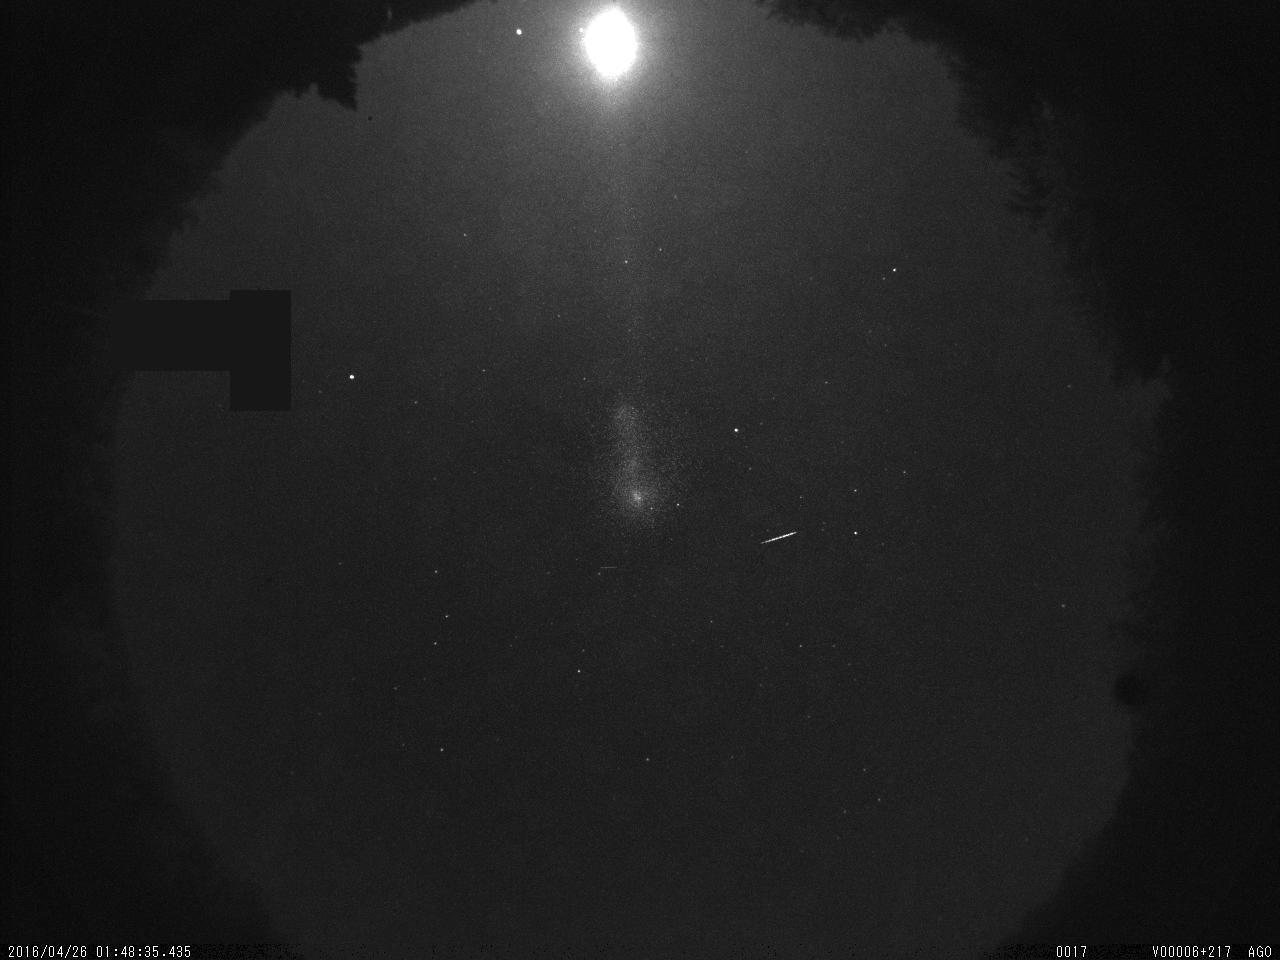Meteor: (752, 524, 805, 557)
